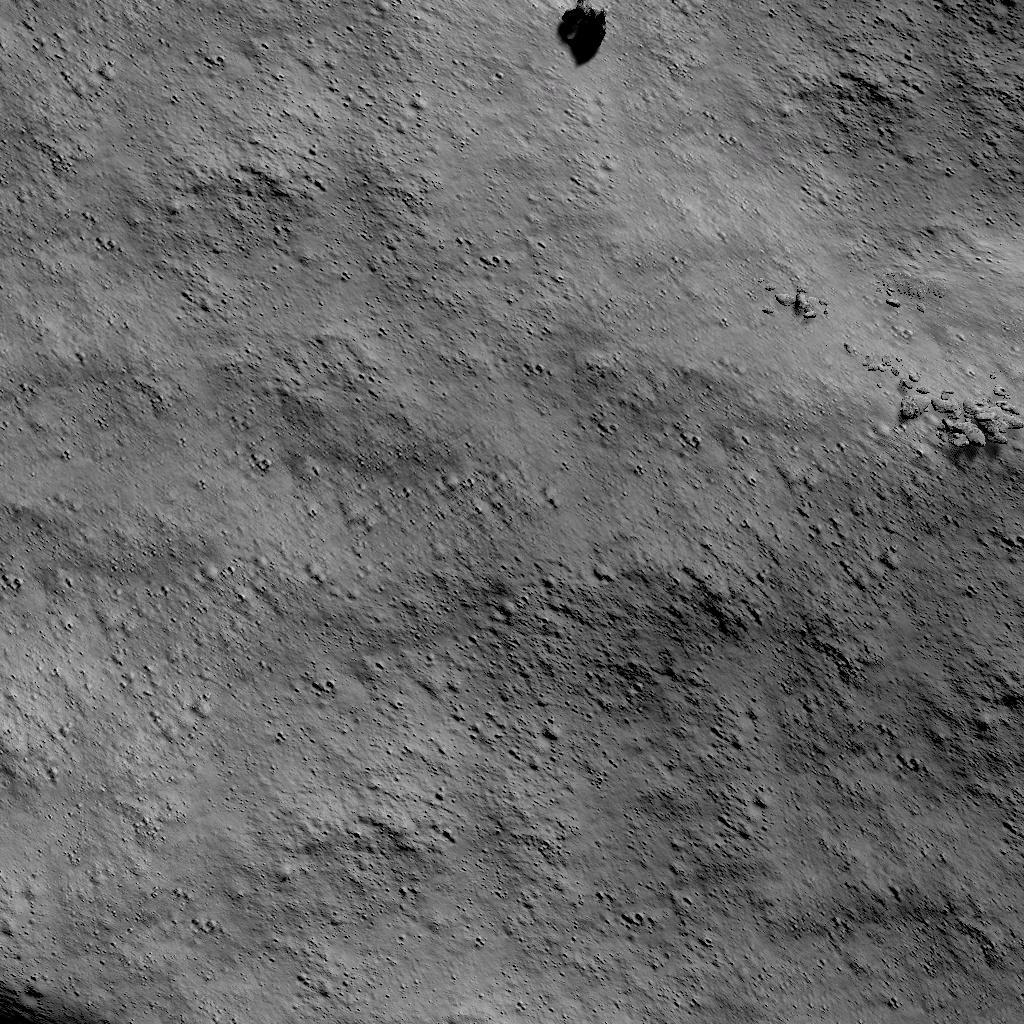Plan surface: (13, 489, 1024, 1010), (0, 0, 550, 471), (619, 0, 1024, 277)
